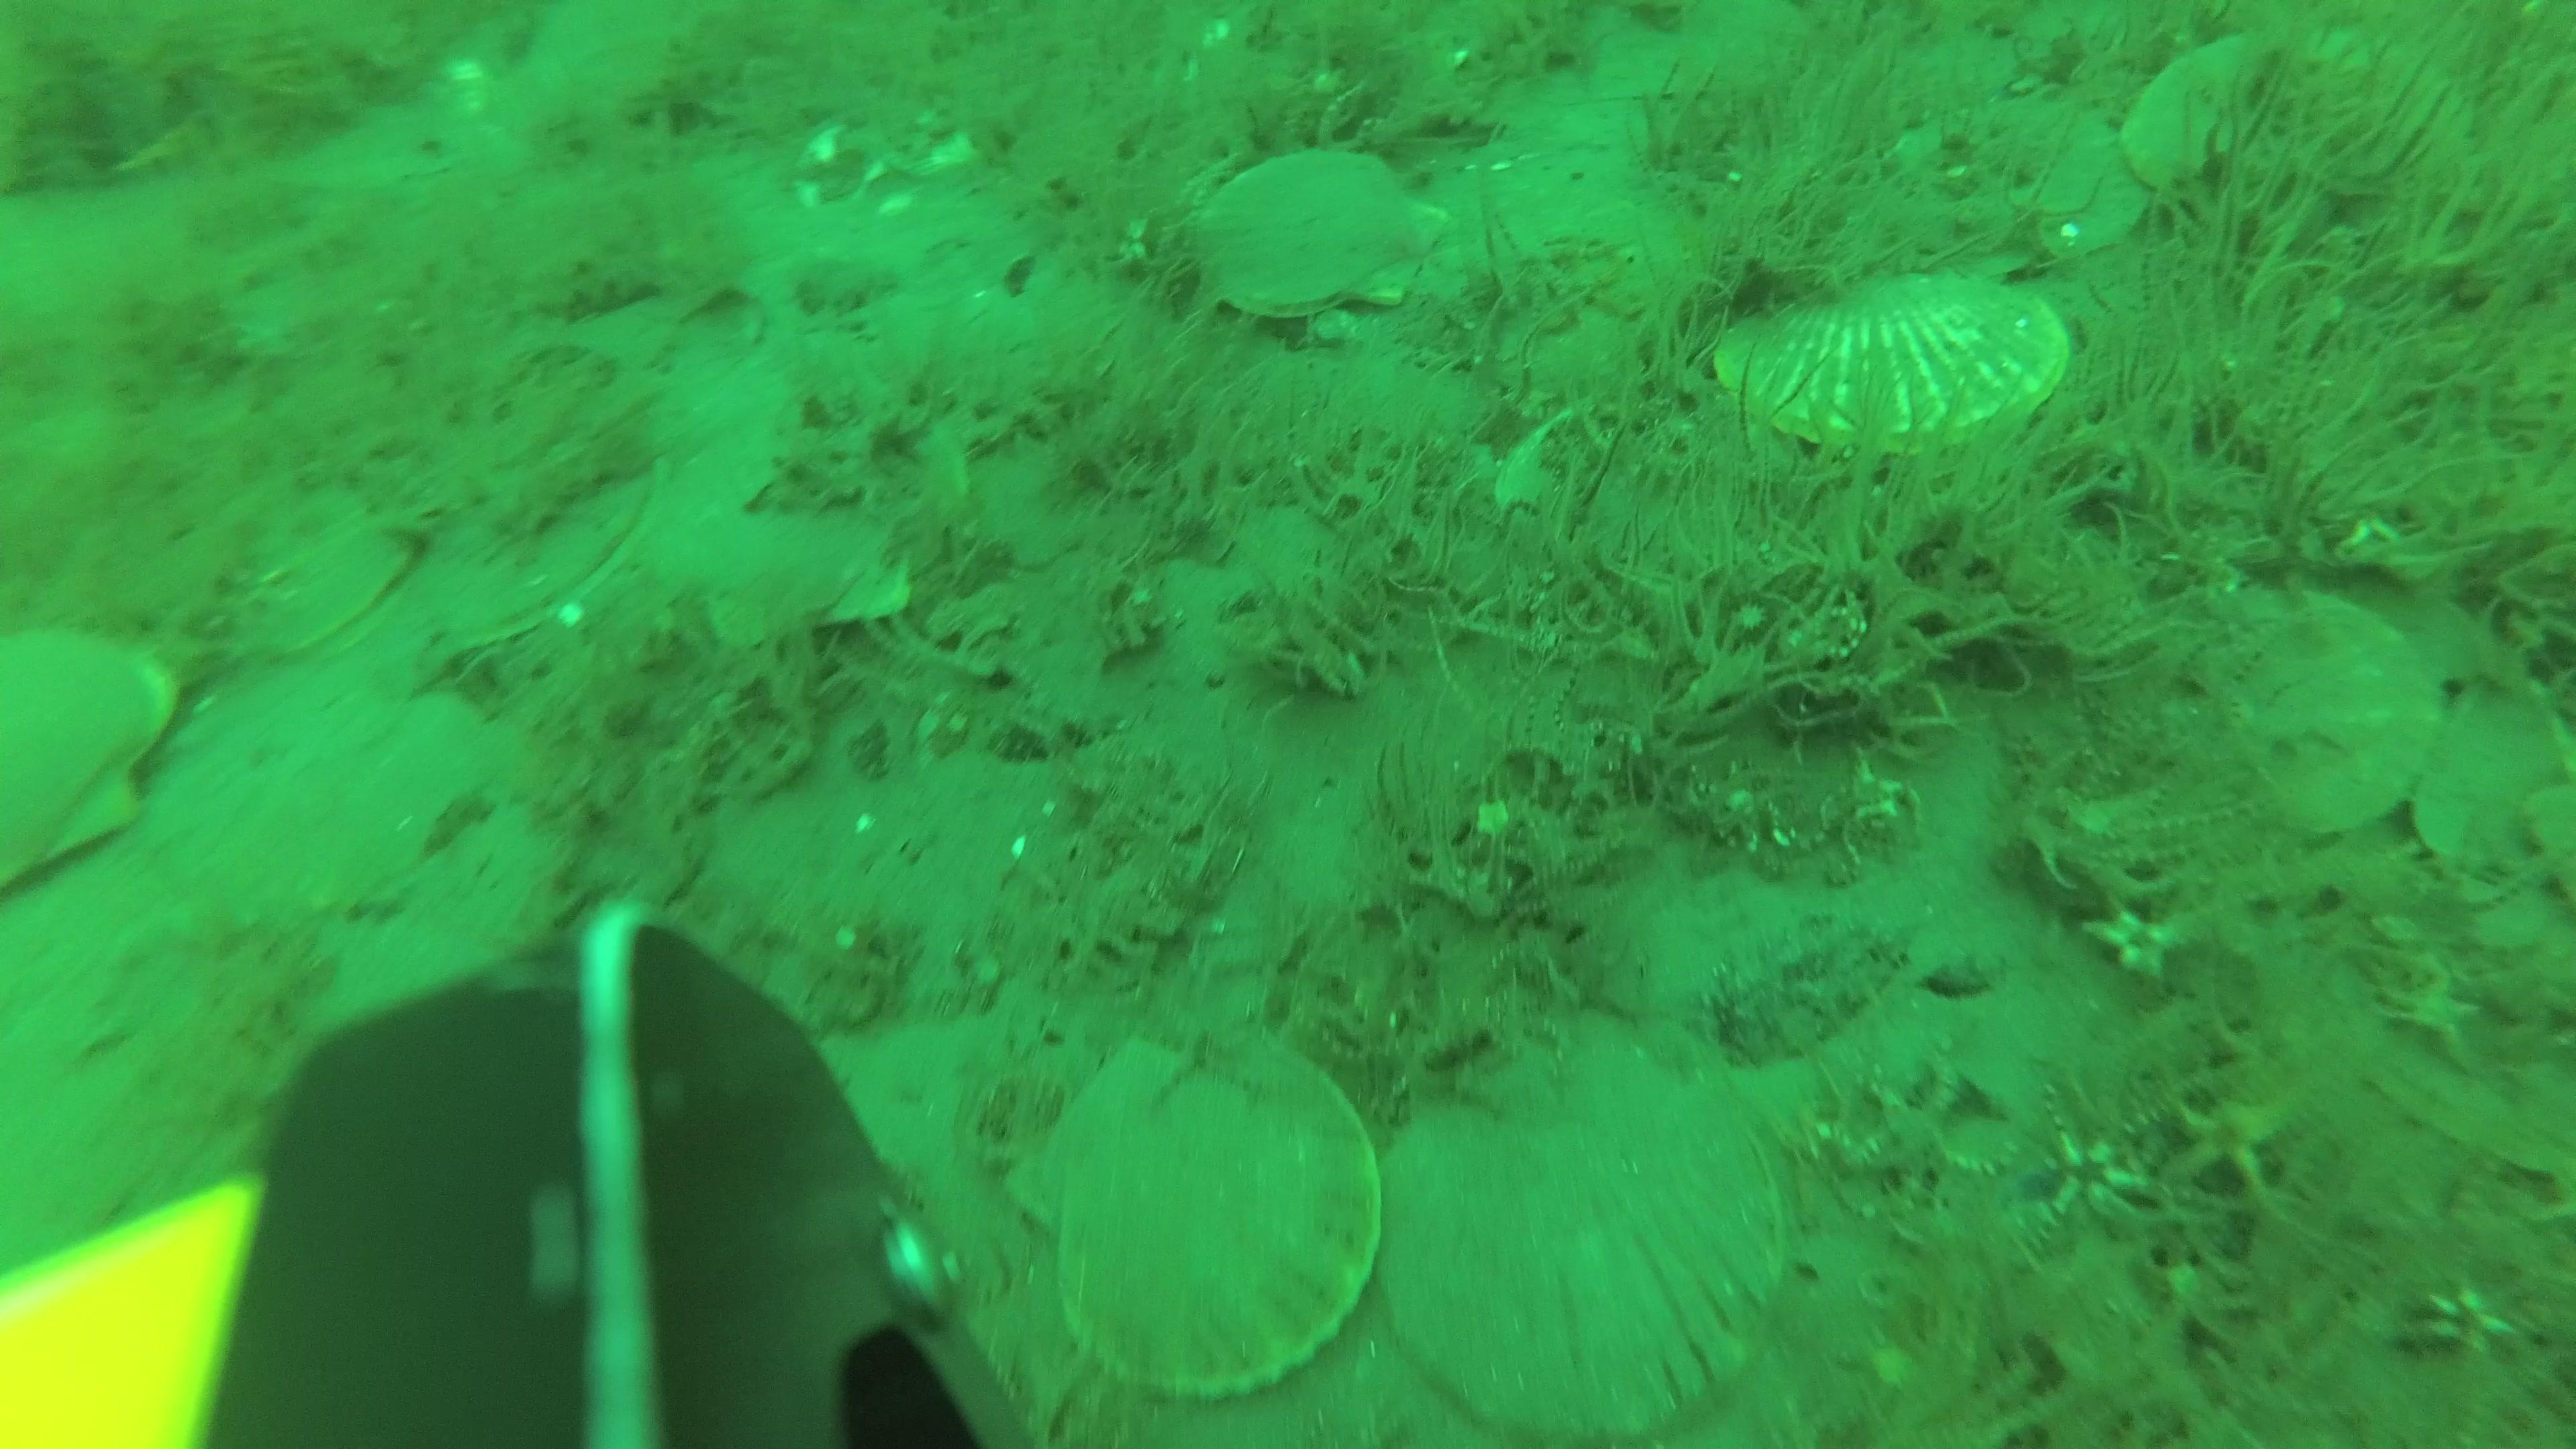scallop: (1391, 1035, 1780, 1431), (1010, 1019, 1382, 1401), (649, 389, 980, 640), (1711, 265, 2070, 453), (2121, 23, 2479, 202), (2199, 586, 2427, 830), (1191, 136, 1456, 318), (0, 623, 177, 885)
